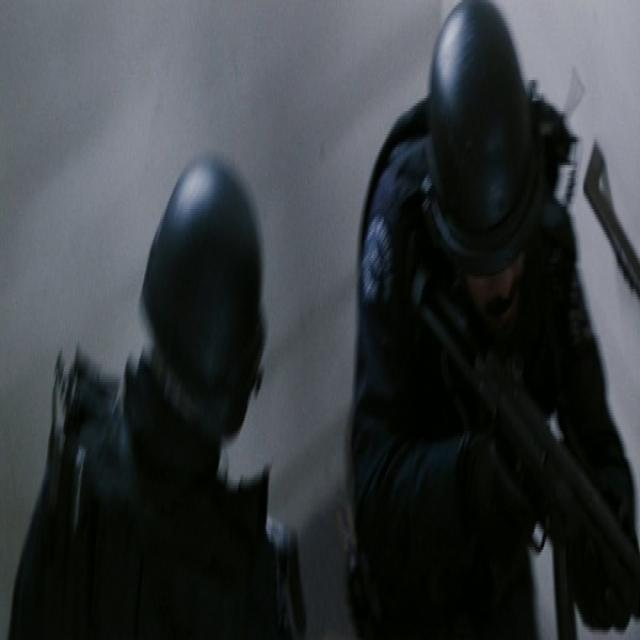rifle: (409, 263, 640, 628)
